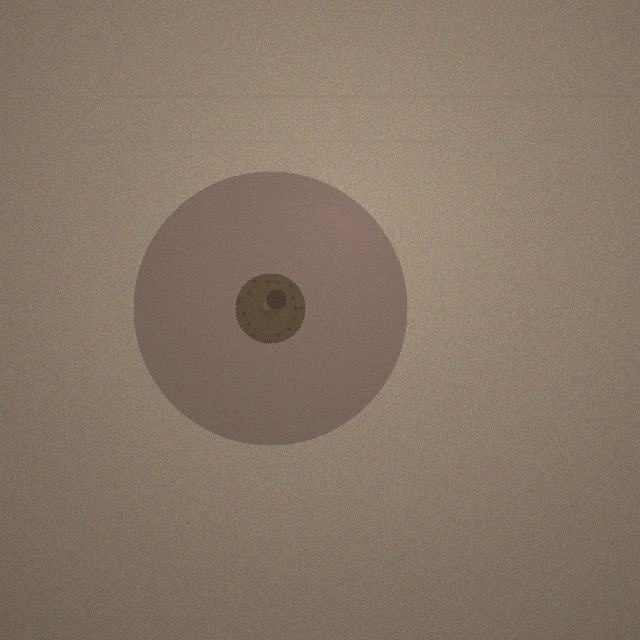cold_weld: (133, 171, 407, 445)
